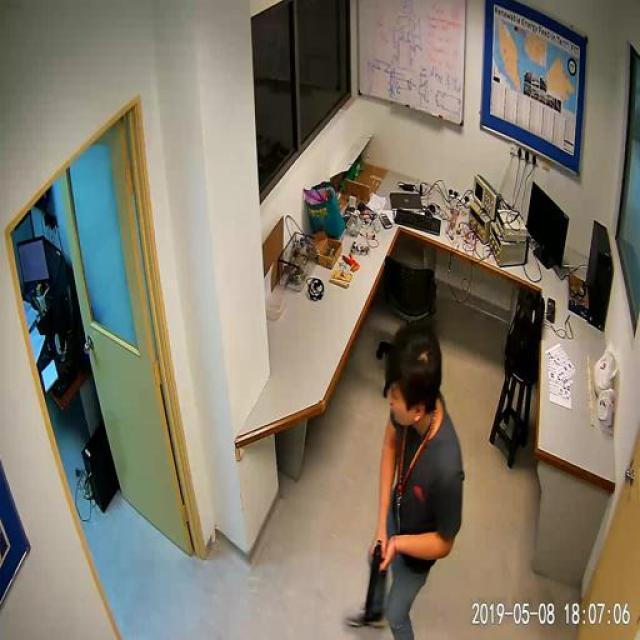Gun: (352, 541, 390, 626)
